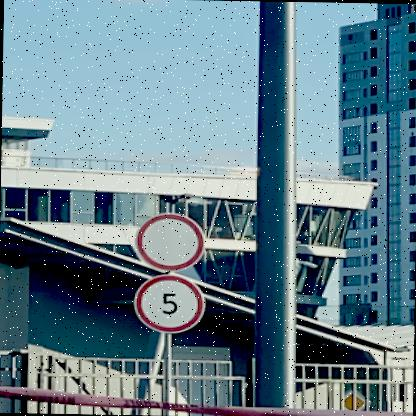speedlimit: (130, 274, 202, 332)
